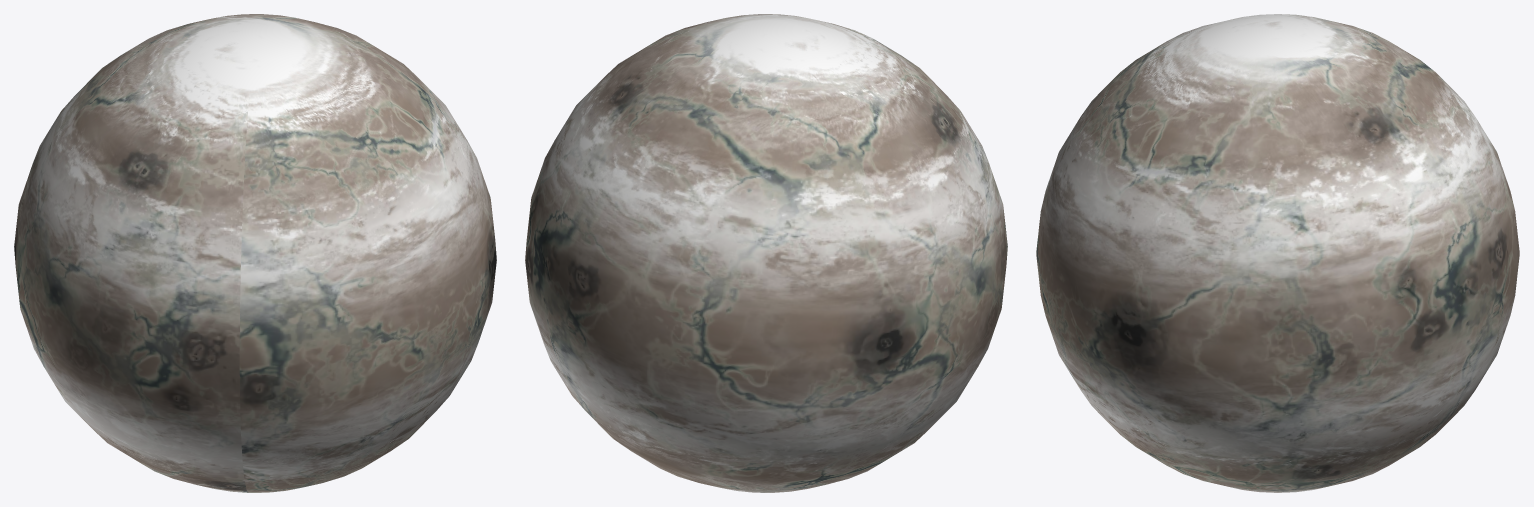
Rendered from kepler-452-planet.glb.
3 renders of one model, left to right at view 1: azimuth 30°, elevation 25°; view 2: azimuth 150°, elevation 25°; view 3: azimuth 270°, elevation 25°, orthographic.
Parts seen in each view (by area): view 1: kepler-452-b; view 2: kepler-452-b; view 3: kepler-452-b.
Boxes of the visible parts, x1,y1,x2,y2 form: kepler-452-b: (14, 14, 496, 492); kepler-452-b: (525, 14, 1007, 492); kepler-452-b: (1036, 14, 1519, 492).
Bounding box in the file's own units: 1.52 × 1.5 × 1.52.
Materials: 1 (1 with a texture image).
